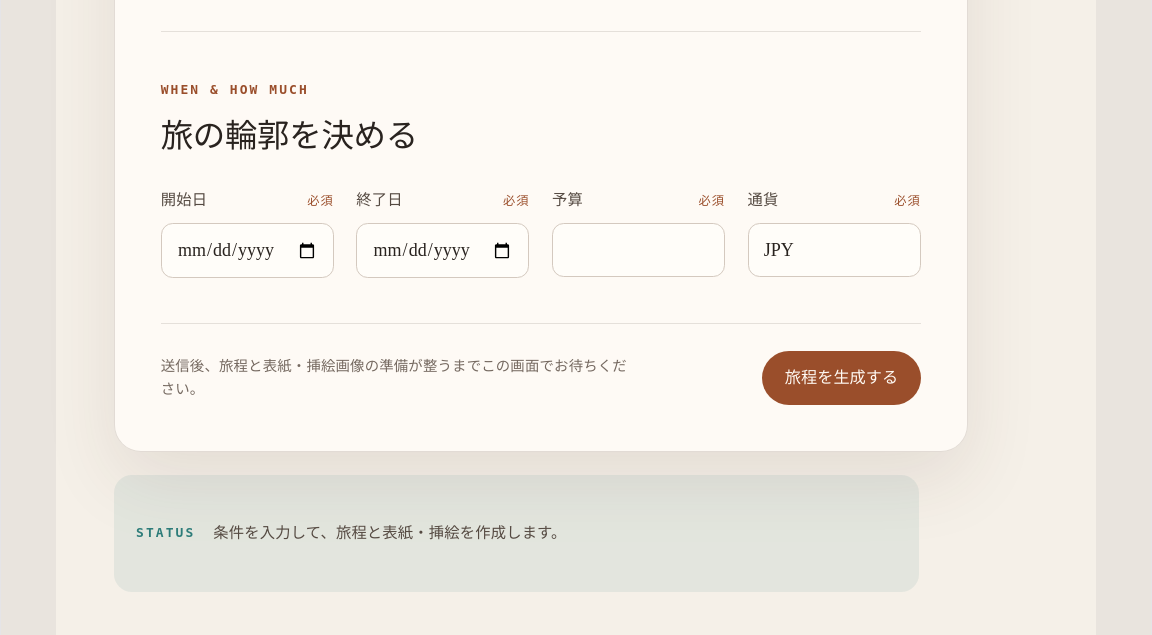
Scenario: JourneyCreationPage › 異常系: 未入力ではAPIを呼ばず最初のエラー項目へフォーカスする
(page scrolled)
What coordinates should you click on to do the following:
click the button "旅程を生成する"
I would click on:
 (842, 378)
Its box is [762,351,921,405].
(page scrolled)
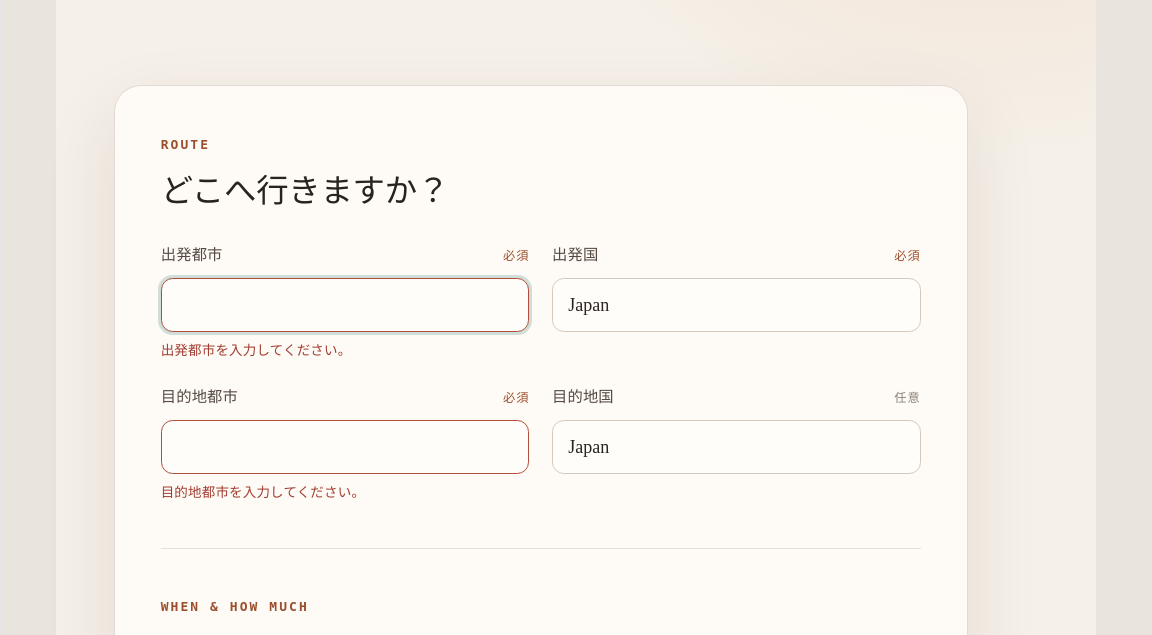
Expected: the 1st message shows "出発都市", [161,343,351,358]
